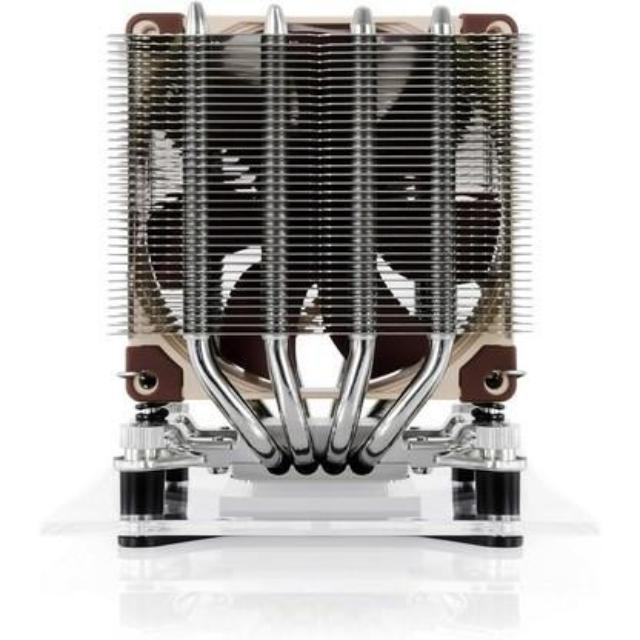CPU_Fan: (74, 8, 582, 570)
